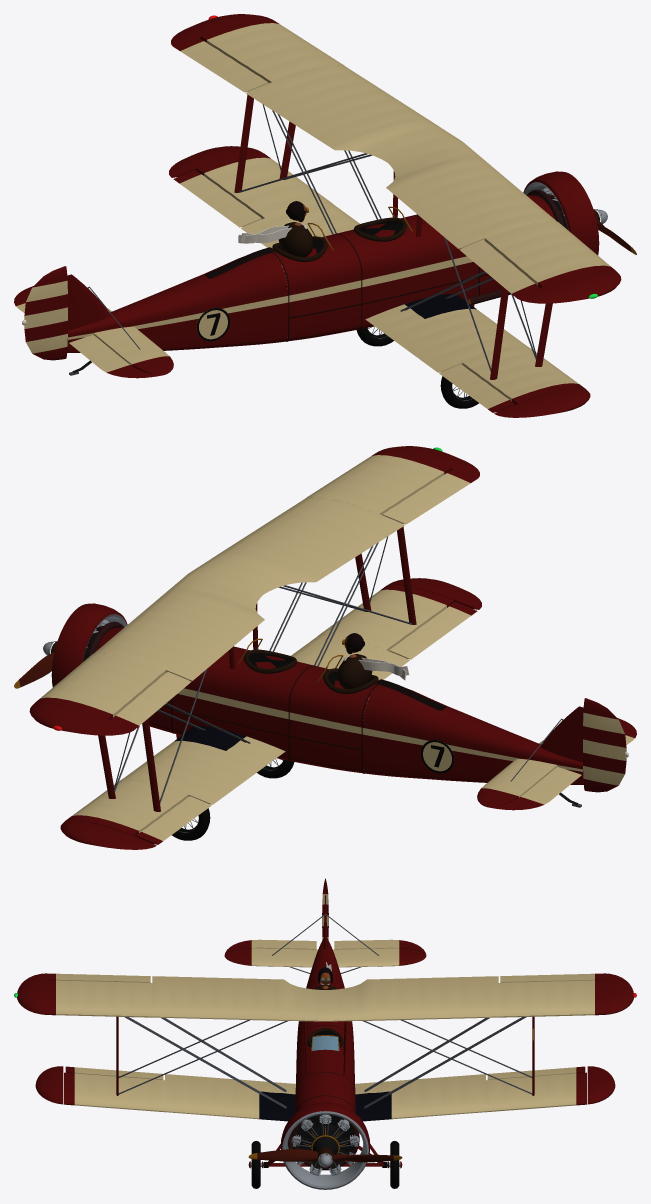
Rendered from biplane.glb.
3 renders of one model, top to bottom at view 1: azimuth 30°, elevation 25°; view 2: azimuth 150°, elevation 25°; view 3: azimuth 270°, elevation 25°, orthographic. The views are drawn at different scales.
Parts seen in each view (by area): view 1: fabric, paint, metal, leather; view 2: fabric, paint, metal, leather, prop; view 3: fabric, metal, paint, leather, prop.
Boxes of the visible parts, bbox=[...] form: fabric: bbox=[14, 14, 621, 417]; paint: bbox=[196, 94, 555, 379]; metal: bbox=[69, 104, 599, 400]; leather: bbox=[205, 201, 478, 408]; fabric: bbox=[29, 446, 636, 849]; paint: bbox=[95, 526, 454, 811]; metal: bbox=[51, 536, 581, 832]; leather: bbox=[172, 633, 445, 840]; prop: bbox=[14, 641, 57, 688]; fabric: bbox=[17, 878, 633, 1121]; metal: bbox=[118, 913, 533, 1189]; paint: bbox=[116, 1016, 534, 1168]; leather: bbox=[251, 962, 399, 1188]; prop: bbox=[248, 1147, 402, 1162].
Bounding box in the file's own units: 2.05 × 0.7751 × 2.32.
